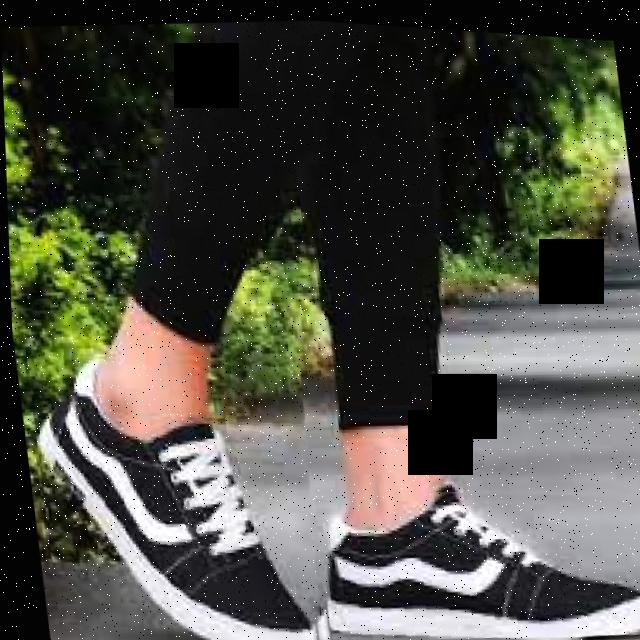shoe: (23, 330, 332, 640), (308, 454, 640, 640)
